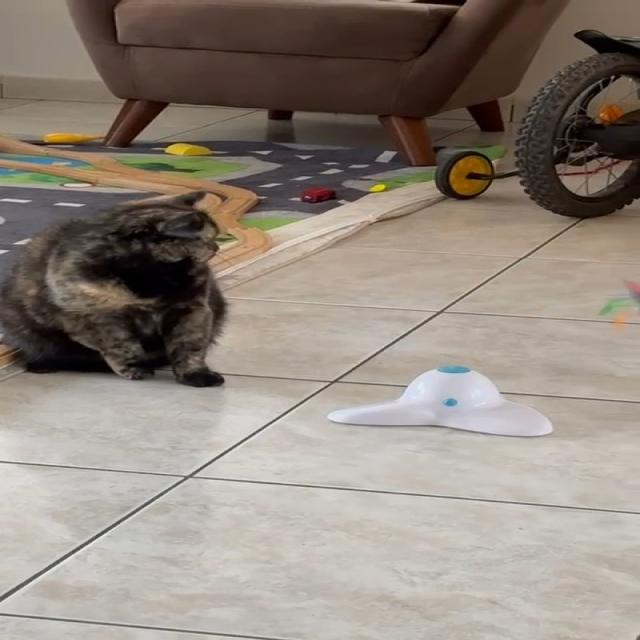authorized: (0, 189, 229, 387)
